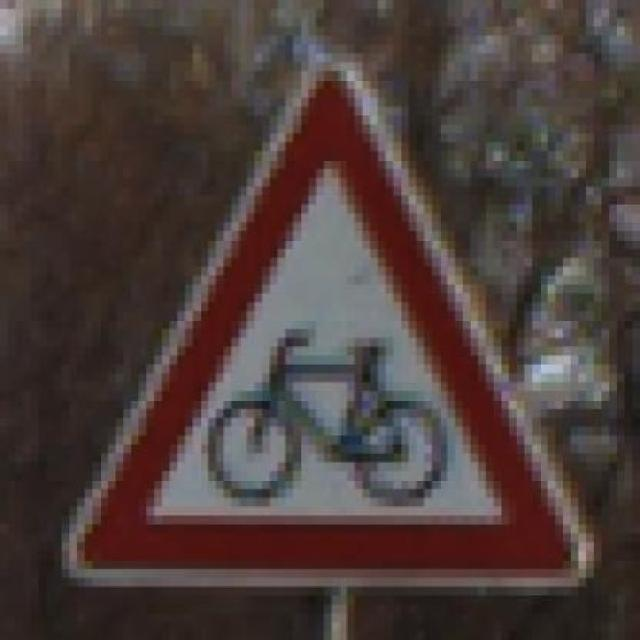CYCLE ROUTE AHEAD WARNING: (54, 36, 601, 596)
